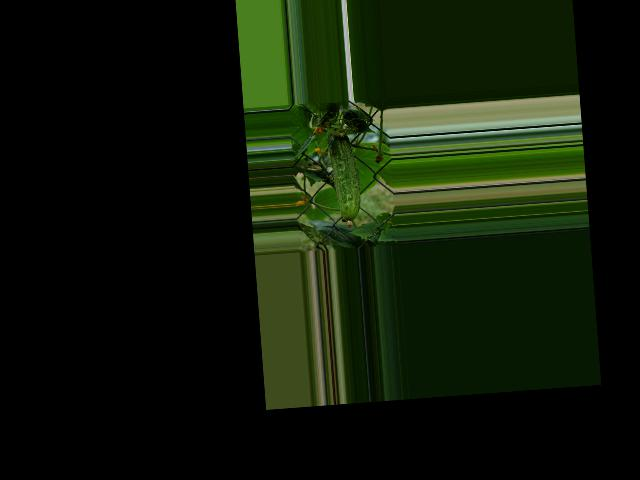cucumber: (327, 127, 362, 227)
